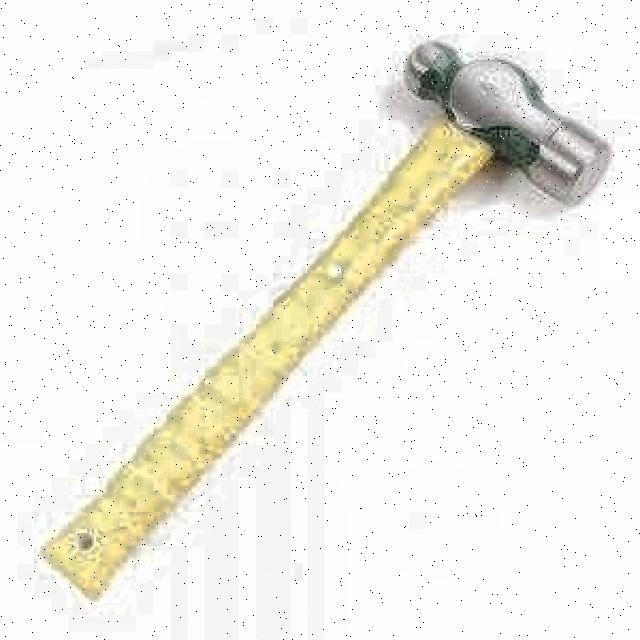hammer: (42, 36, 616, 604)
